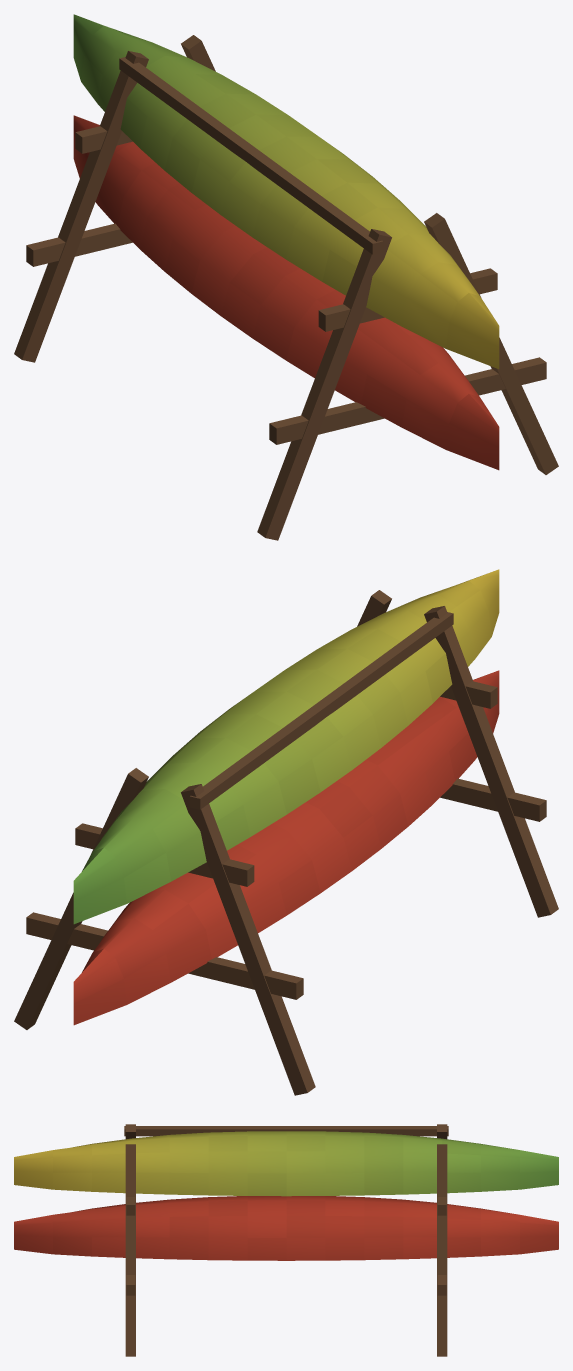
The model's file is canoe_rack.glb.
3 views of the same model, one above another, from view 1: azimuth 30°, elevation 25°; view 2: azimuth 150°, elevation 25°; view 3: azimuth 270°, elevation 25° (orthographic). The views are drawn at different scales.
Visible parts, largest first — view 1: canoe_rack; view 2: canoe_rack; view 3: canoe_rack.
Part boxes in pixels (<box>): canoe_rack: <box>14,14,558,540</box>; canoe_rack: <box>14,569,558,1095</box>; canoe_rack: <box>14,1124,558,1356</box>.
Bounding box in the file's own units: 1.67 × 1.53 × 4.2.
